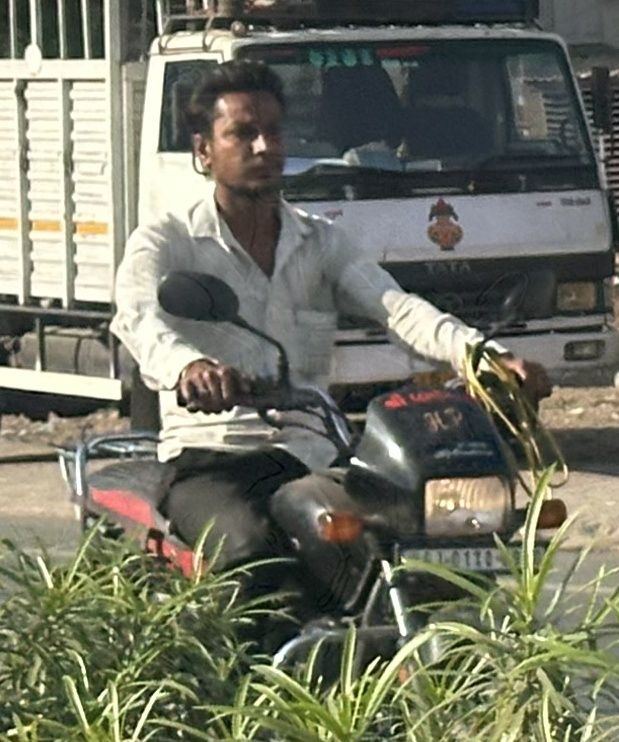BikeWithRider: (43, 48, 587, 742)
NoHelmet: (175, 52, 304, 208)
